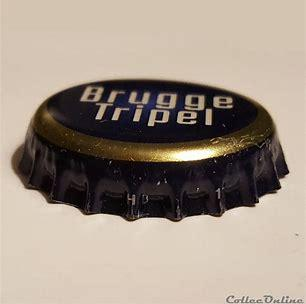metal: (19, 80, 289, 220)
